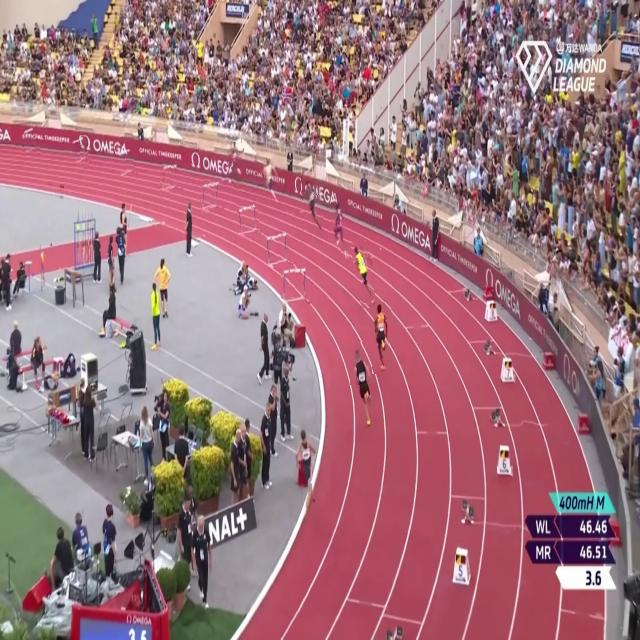athlete: (296, 426, 321, 512), (351, 342, 375, 426), (330, 194, 352, 262), (354, 241, 374, 308), (374, 302, 390, 374), (259, 156, 282, 206), (302, 177, 322, 231), (226, 143, 243, 191)
hurdle: (282, 263, 310, 299), (266, 232, 290, 268), (160, 160, 181, 194), (236, 202, 259, 233), (200, 180, 221, 212), (22, 126, 40, 157), (71, 136, 88, 168), (116, 146, 134, 176)
